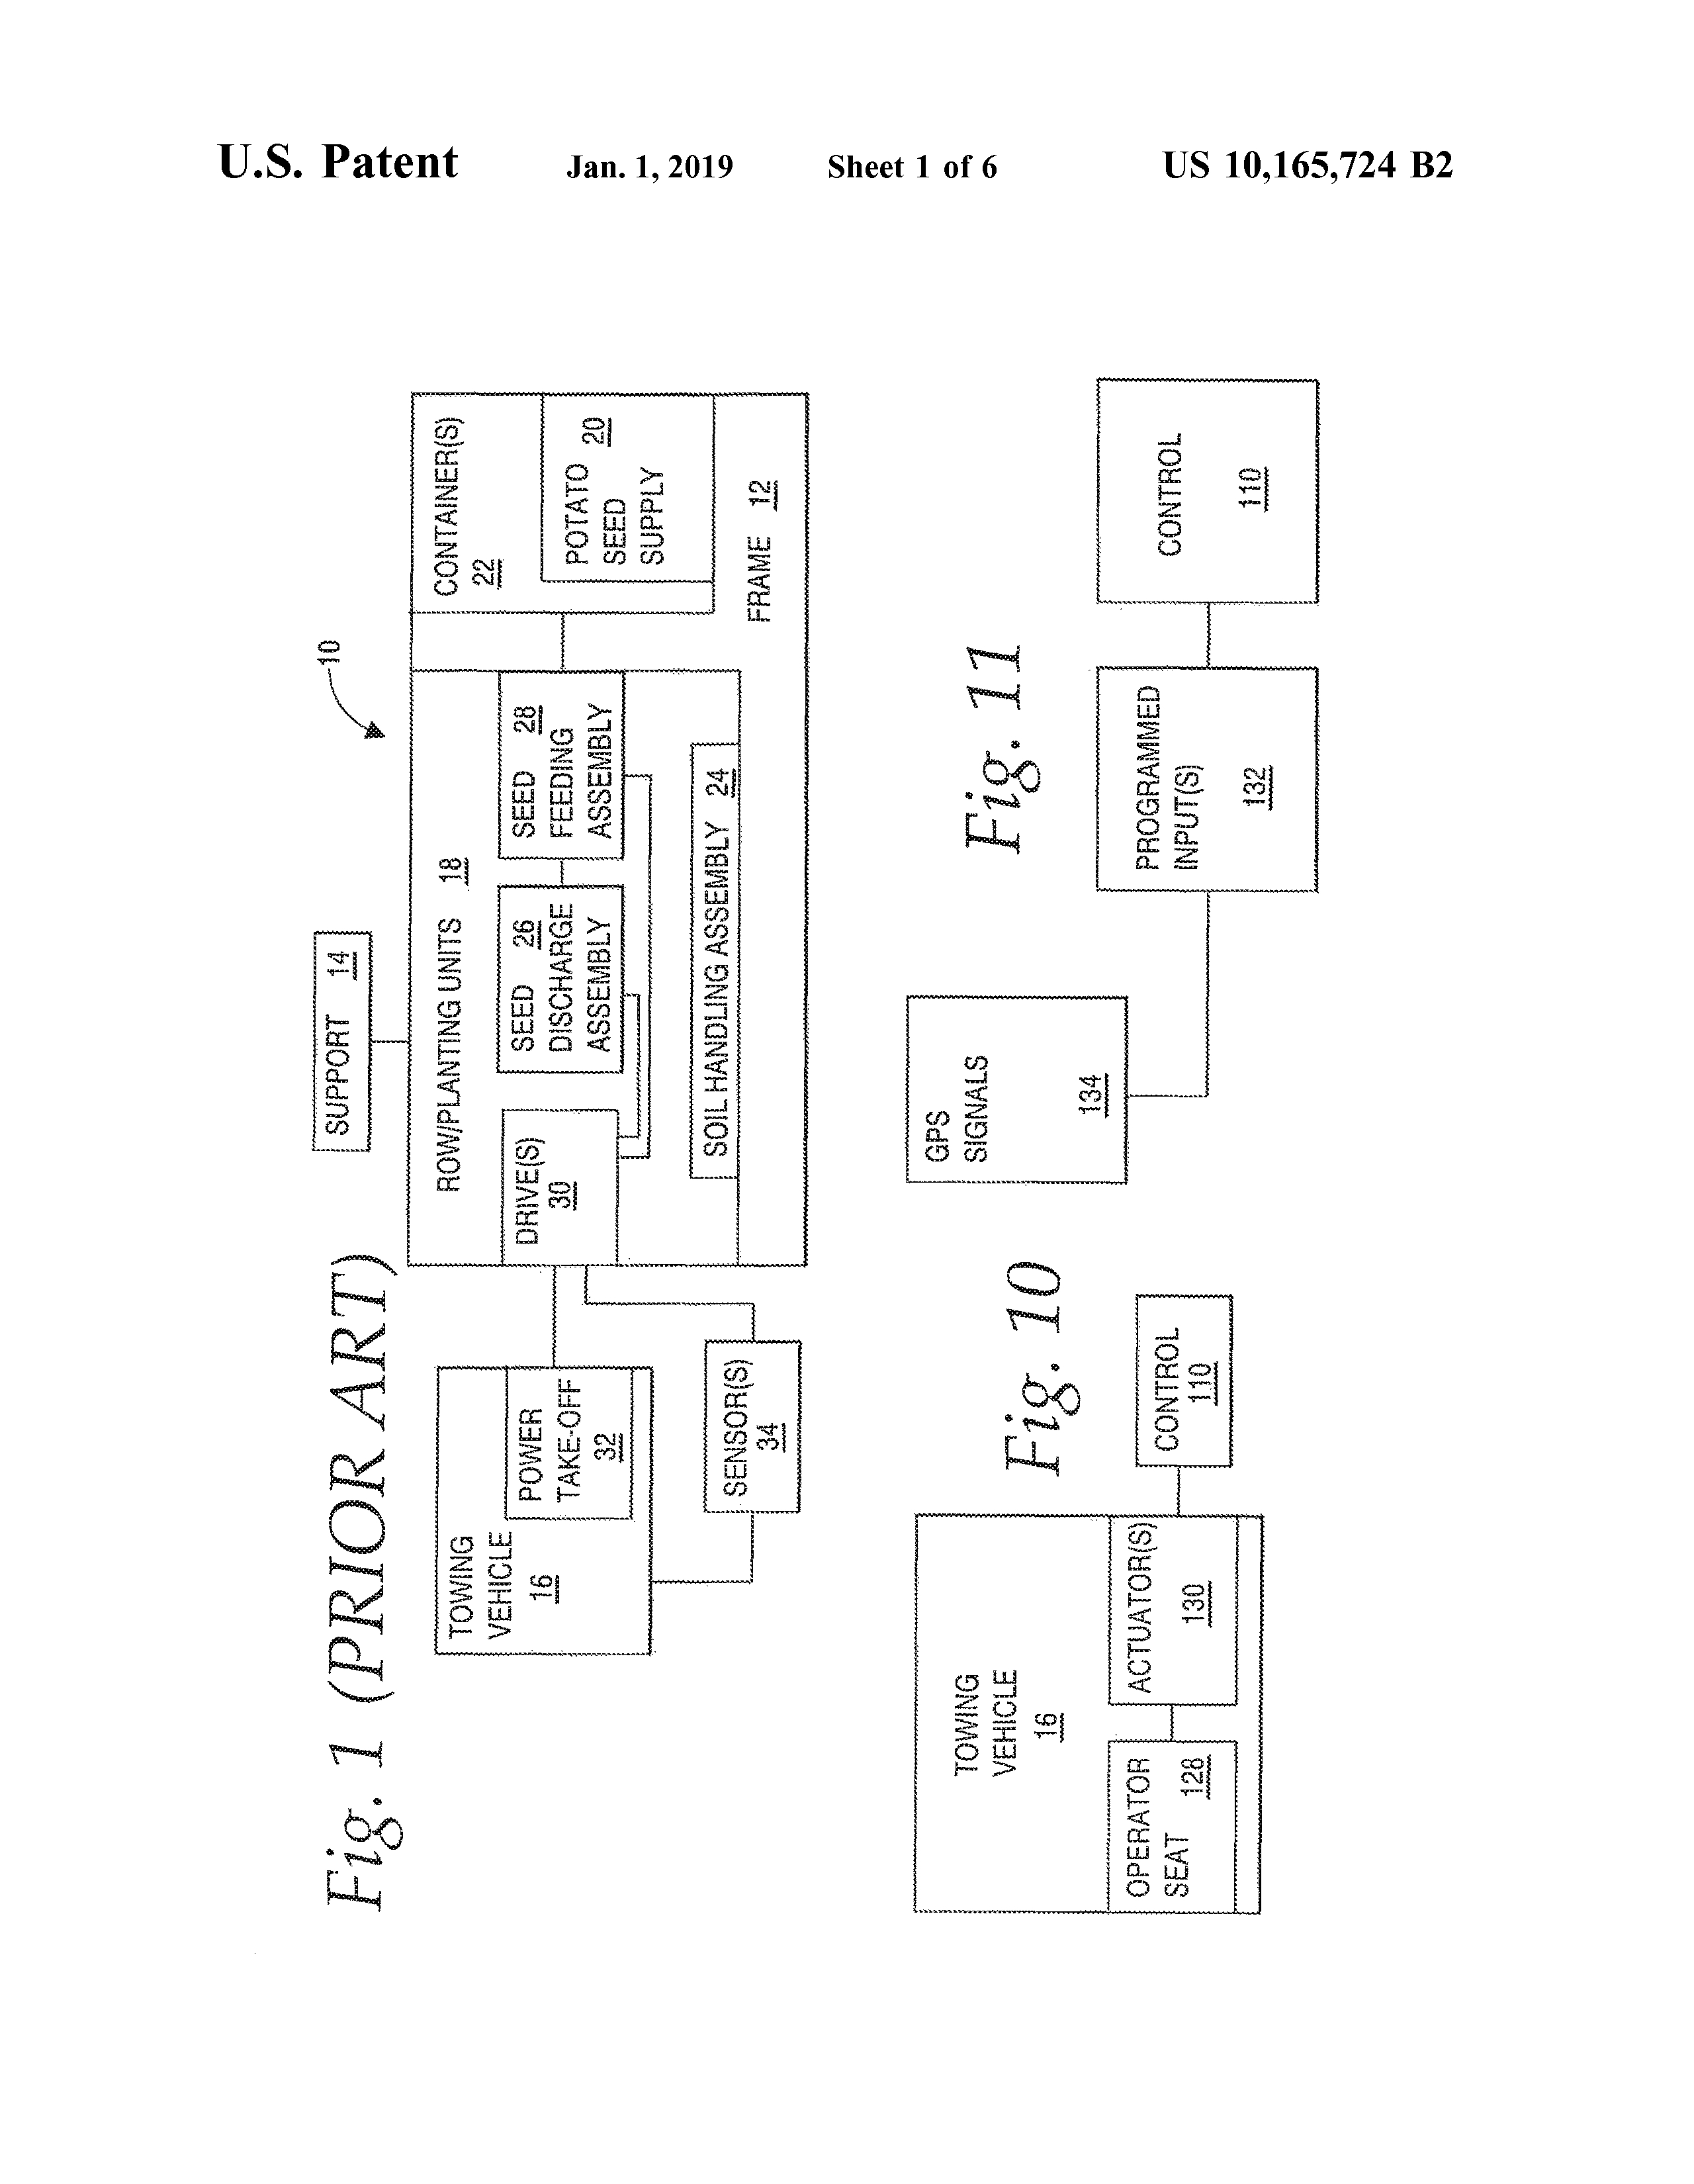patent image: (267, 331, 871, 1962), (885, 310, 1346, 1211), (888, 1240, 1303, 1956)
